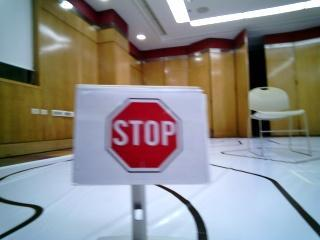stop: (80, 92, 199, 176)
